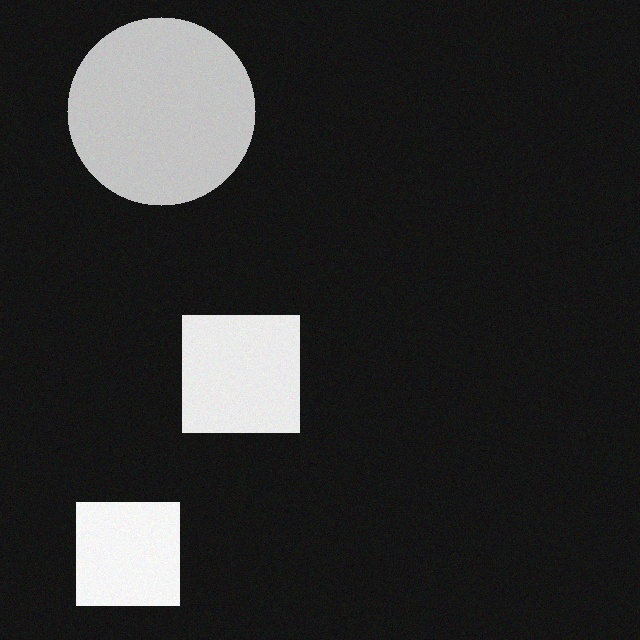circle: (77, 31, 265, 219)
square: (192, 329, 309, 446), (86, 516, 189, 619)
